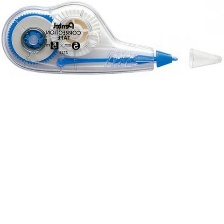correction_fluid: (0, 0, 181, 76)
